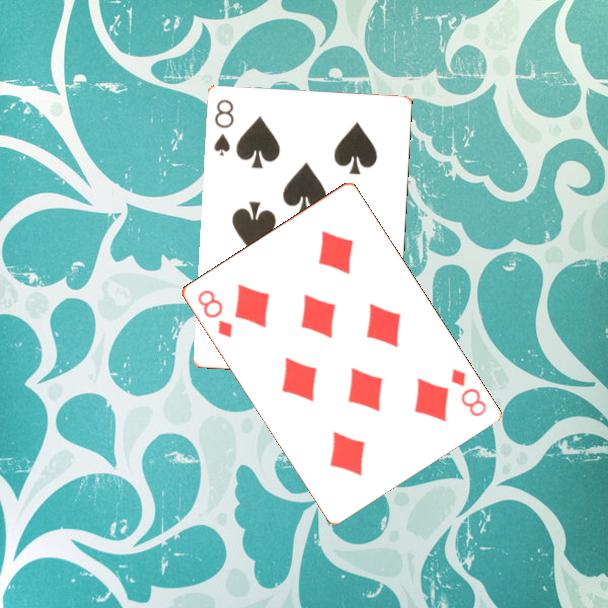d08: (447, 364, 489, 420), (194, 286, 235, 340)
s08: (211, 96, 237, 159)
